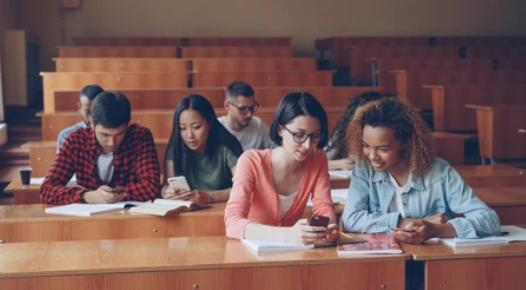phone: (226, 92, 334, 248), (41, 89, 159, 206), (163, 95, 245, 207)
